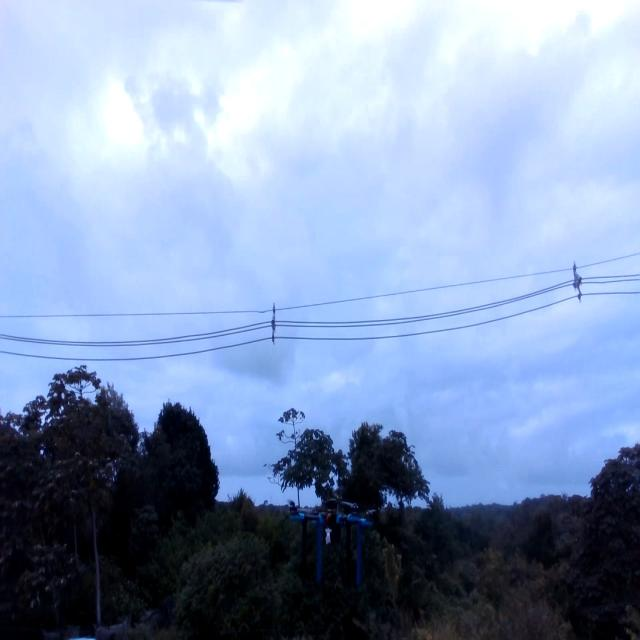-uav-: (280, 495, 379, 585)
